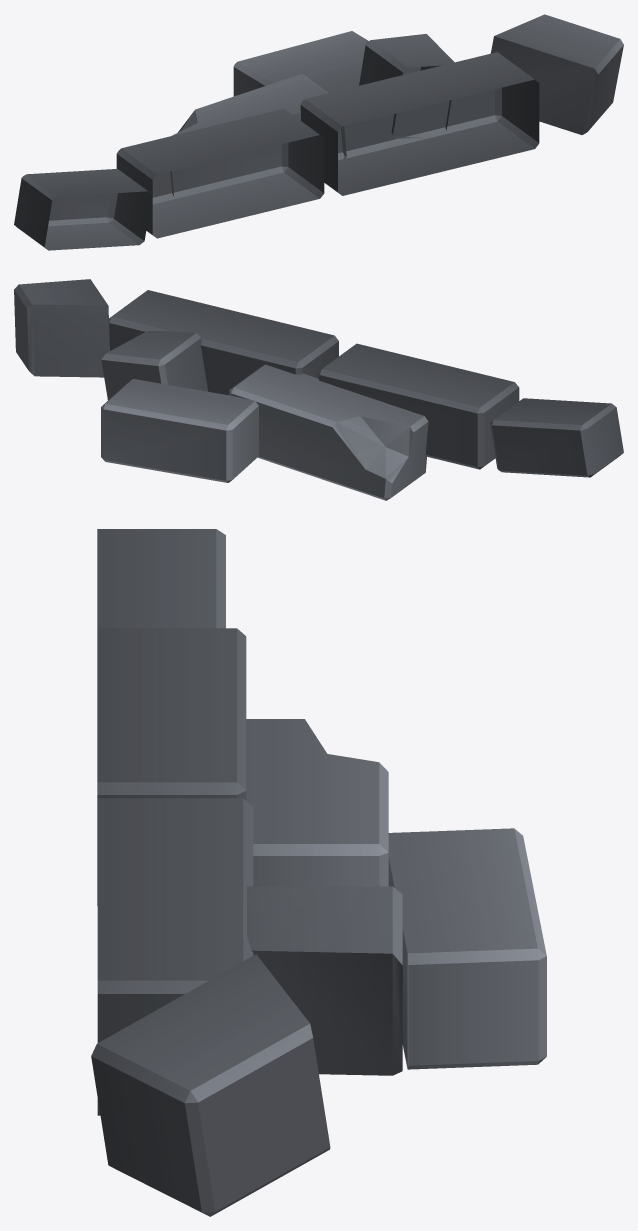
File: Debris 03.FBX
The picture shows the model from 3 angles, top to bottom: view 1: azimuth 30°, elevation 25°; view 2: azimuth 150°, elevation 25°; view 3: azimuth 270°, elevation 25°; orthographic projection. The views are drawn at different scales.
Parts seen in each view (by area): view 1: Debris 03; view 2: Debris 03; view 3: Debris 03.
Part boxes in pixels (bbox=[...]): Debris 03: bbox=[14, 14, 623, 250]; Debris 03: bbox=[14, 279, 623, 500]; Debris 03: bbox=[91, 529, 546, 1216].
Size of the model in its own units: 445 by 70.71 by 150.
